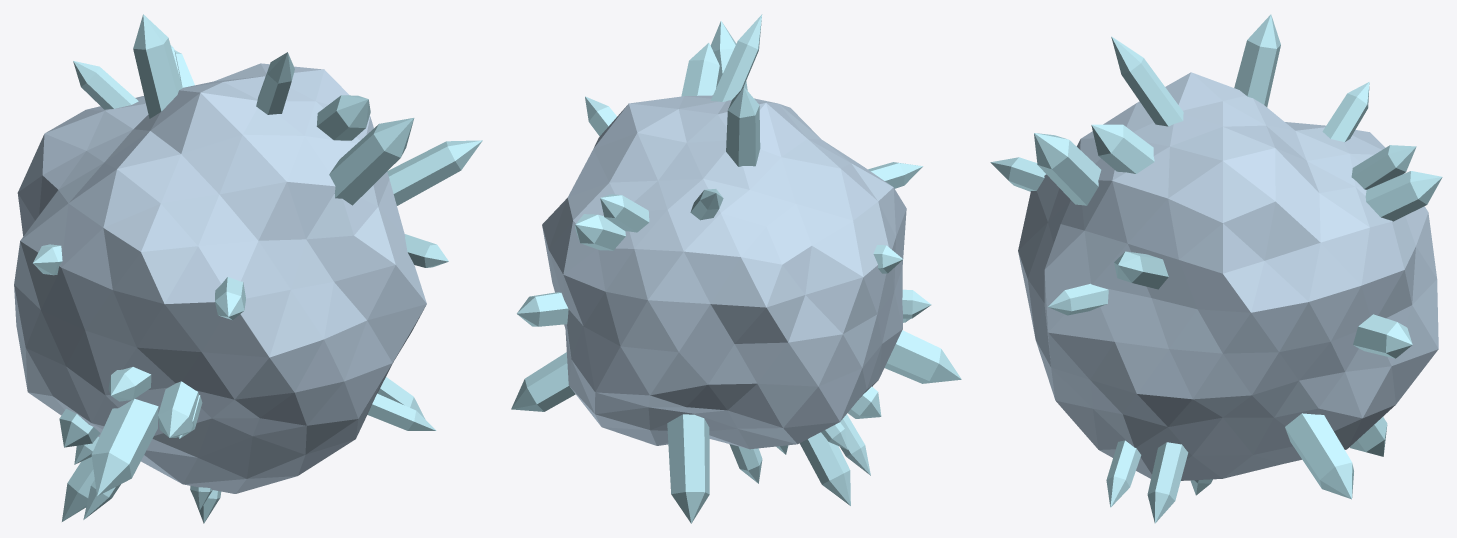
Rendered from IceMeteor.fbx.
3 renders of one model, left to right at view 1: azimuth 30°, elevation 25°; view 2: azimuth 150°, elevation 25°; view 3: azimuth 270°, elevation 25°, orthographic. The views are drawn at different scales.
Visible parts, largest first — view 1: IceMeteor; view 2: IceMeteor; view 3: IceMeteor.
Boxes of the visible parts, box(x1,y1,x2,y2) form: IceMeteor: box(14, 14, 482, 523); IceMeteor: box(511, 14, 961, 523); IceMeteor: box(990, 14, 1442, 523).
Bounding box in the file's own units: 2.33 × 2.69 × 2.31.
